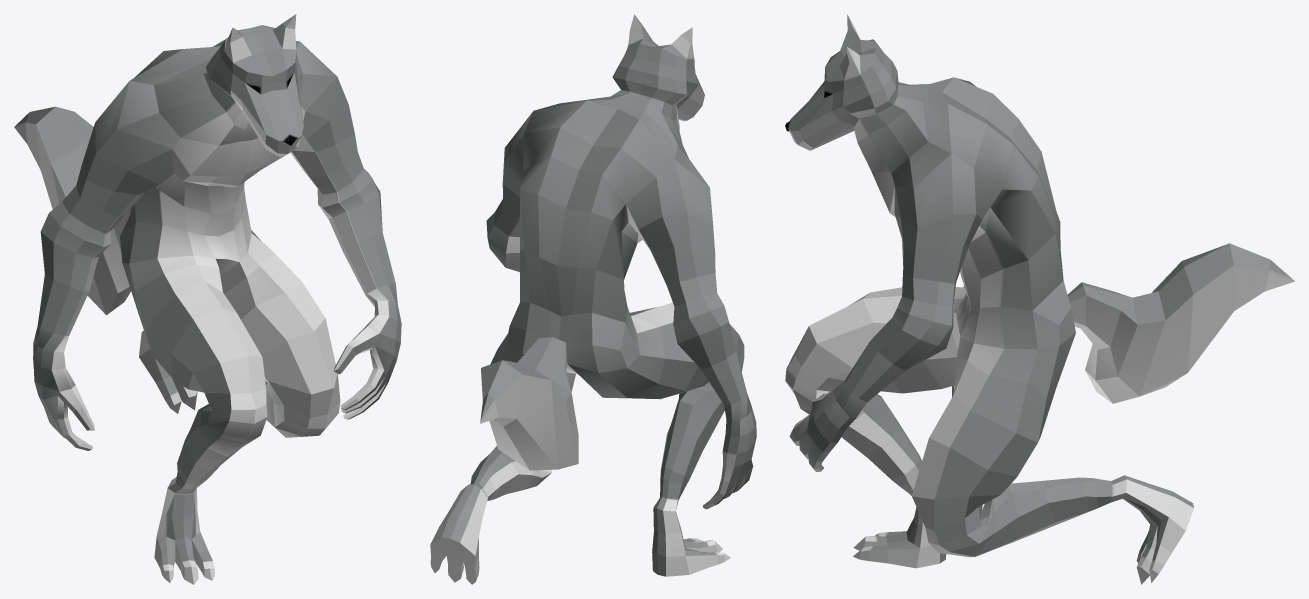
Rendered from WolfWalk(36).obj.
3 views of the same model, side by side, from view 1: azimuth 30°, elevation 25°; view 2: azimuth 150°, elevation 25°; view 3: azimuth 270°, elevation 25° (orthographic). The views are drawn at different scales.
Visible parts, largest first — view 1: Box001; view 2: Box001; view 3: Box001.
Part boxes in pixels (x1,y1,x2,y2): Box001: [14, 14, 401, 584]; Box001: [430, 14, 756, 584]; Box001: [785, 14, 1294, 584].
Bounding box in the file's own units: 73.5 × 123 × 103.
